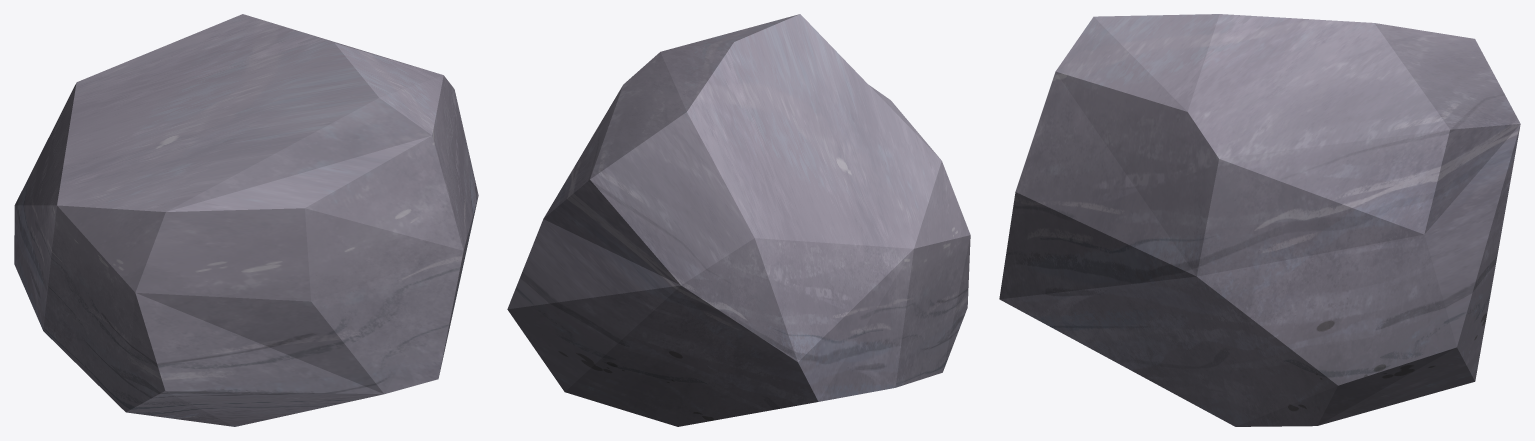
The model's file is rock_2.fbx.
3 views of the same model, side by side, from view 1: azimuth 30°, elevation 25°; view 2: azimuth 150°, elevation 25°; view 3: azimuth 270°, elevation 25° (orthographic). The views are drawn at different scales.
Parts seen in each view (by area): view 1: rock 2; view 2: rock 2; view 3: rock 2.
Part boxes in pixels (x1,y1,x2,y2): rock 2: (14,14,478,426); rock 2: (507,14,970,426); rock 2: (999,14,1520,426).
Bounding box in the file's own units: 434 × 391 × 465.
